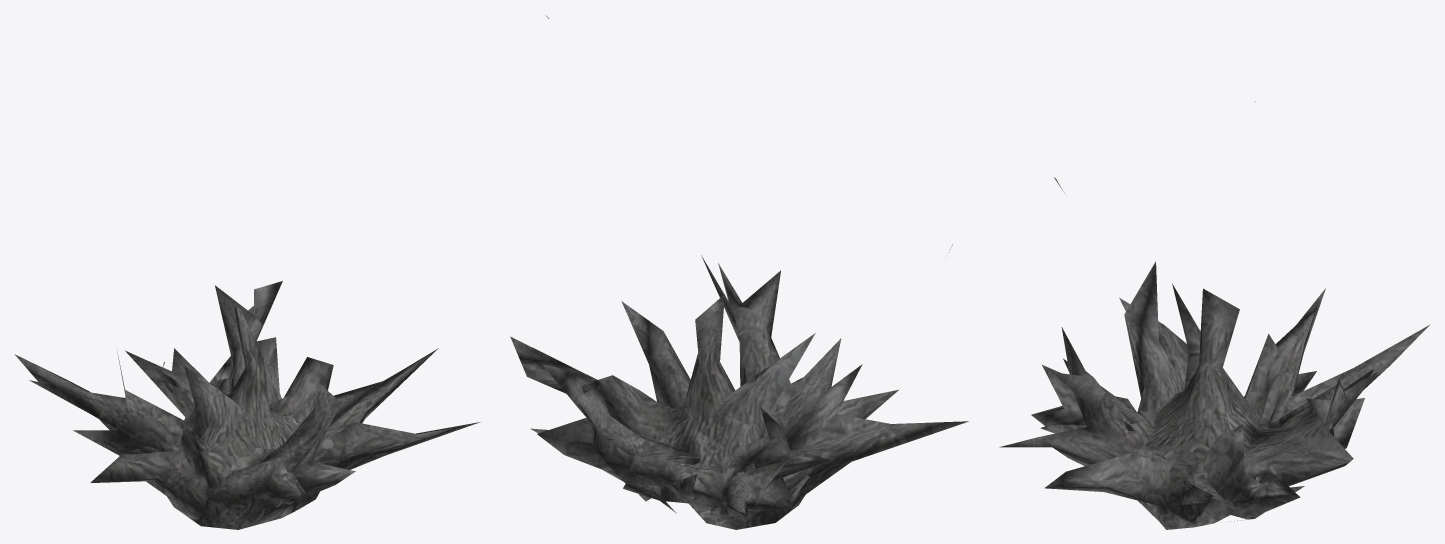
Rendered from tundra-bush-1.glb.
3 renders of one model, left to right at view 1: azimuth 30°, elevation 25°; view 2: azimuth 150°, elevation 25°; view 3: azimuth 270°, elevation 25°, orthographic. The views are drawn at different scales.
Parts seen in each view (by area): view 1: geometry_0.001; view 2: geometry_0.001; view 3: geometry_0.001.
Boxes of the visible parts, <box> form: geometry_0.001: <box>14,281,480,529</box>; geometry_0.001: <box>510,15,968,529</box>; geometry_0.001: <box>999,101,1430,529</box>.
Size of the model in its own units: 0.4885 by 0.5274 by 0.4328.
Materials: 1 (1 with a texture image).
